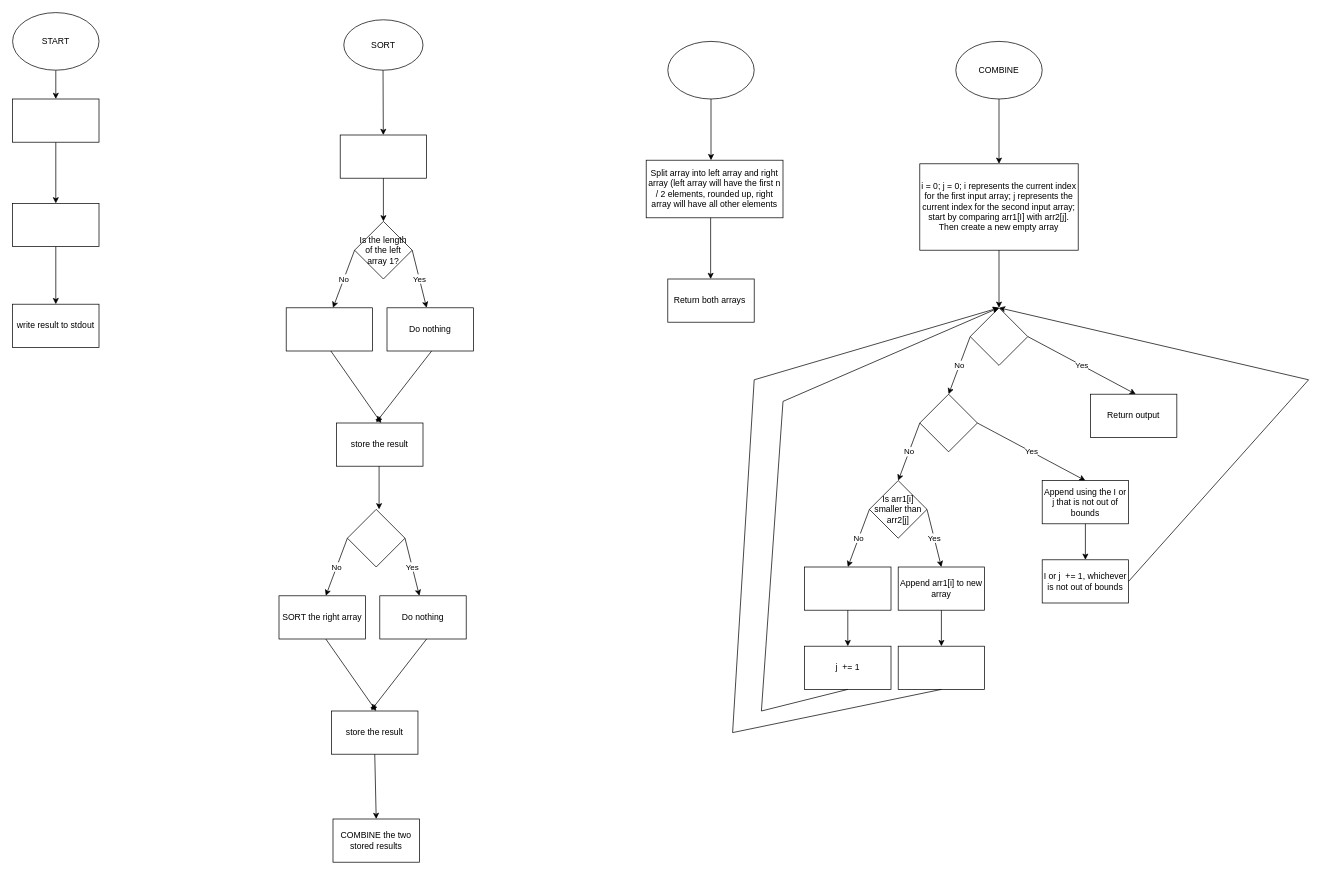
Some shapes in this 1327 by 875 pixel diagram are drawn without their labels. Here are the shapes that lost their labels. From the top down, the centre of each, then its label:
(x=710, y=70): SPLIT
(x=55, y=120): read into stdin
(x=383, y=156): SPLIT the input array, use the left array for now and save the right array
(x=55, y=225): SORT the array
(x=329, y=329): SORT the left array
(x=998, y=336): Are both input arrays empty?
(x=948, y=422): Is either index out of bounds
(x=376, y=538): Is the length of the right array 1?
(x=847, y=588): Append arr2[j] to new array
(x=941, y=667): i += 1
